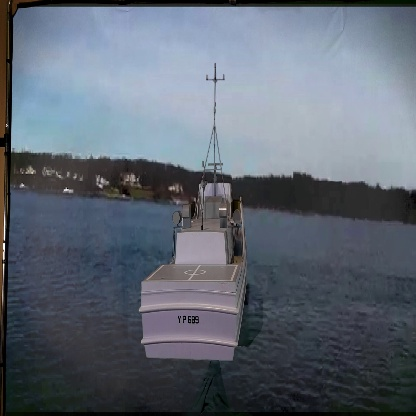YP689: (140, 62, 249, 364)
